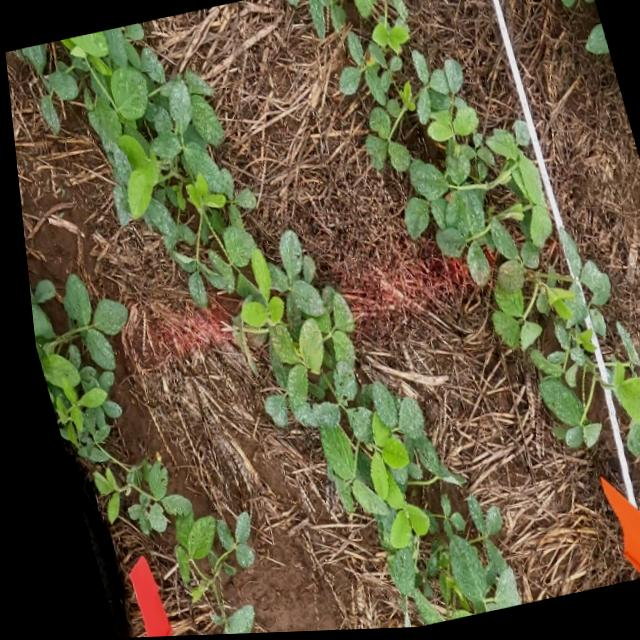soy_plant: (20, 24, 506, 628), (309, 0, 604, 451), (23, 275, 241, 636), (596, 328, 640, 460), (585, 27, 608, 59), (560, 0, 594, 11)
